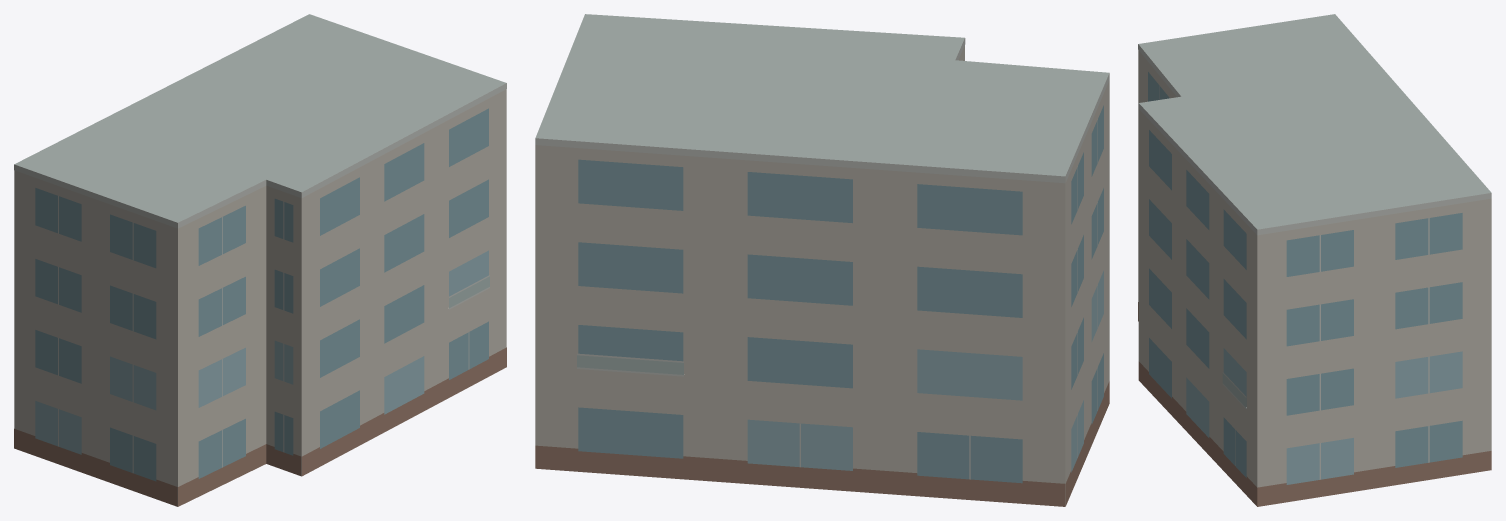
Rendered from survey-upis-32845881.glb.
3 renders of one model, left to right at view 1: azimuth 30°, elevation 25°; view 2: azimuth 150°, elevation 25°; view 3: azimuth 270°, elevation 25°, orthographic. The views are drawn at different scales.
Visible parts, largest first — view 1: survey-upis-32845881.tmp; view 2: survey-upis-32845881.tmp; view 3: survey-upis-32845881.tmp.
Part boxes in pixels (left/top/right/bottom): survey-upis-32845881.tmp: left=14, top=14, right=506, bottom=506; survey-upis-32845881.tmp: left=535, top=14, right=1109, bottom=506; survey-upis-32845881.tmp: left=1138, top=14, right=1491, bottom=506.
Bounding box in the file's own units: 19.7 × 11.8 × 13.65.
